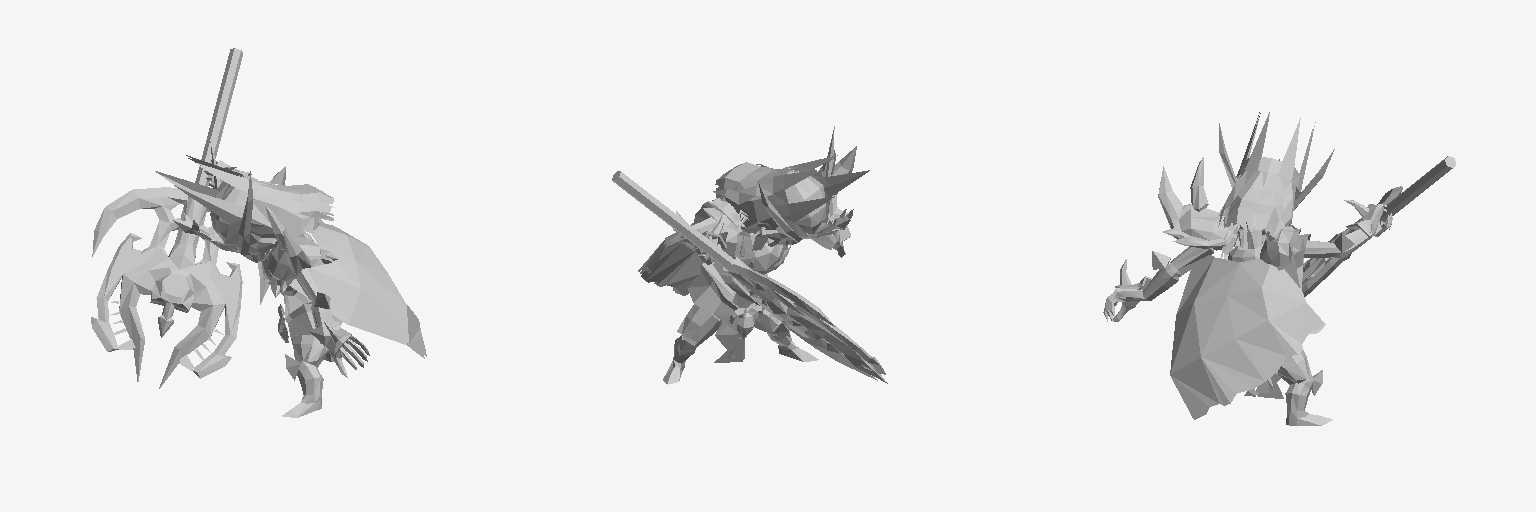
File: Death (12).obj
3 views of the same model, side by side, from view 1: azimuth 30°, elevation 25°; view 2: azimuth 150°, elevation 25°; view 3: azimuth 270°, elevation 25° (orthographic).
Parts seen in each view (by area): view 1: skeleton_king_LOD120, skeleton_weapon_LOD120; view 2: skeleton_king_LOD120, skeleton_weapon_LOD120; view 3: skeleton_king_LOD120, skeleton_weapon_LOD120.
Part boxes in pixels (bbox=[...]): skeleton_king_LOD120: bbox=[155, 141, 426, 417]; skeleton_weapon_LOD120: bbox=[91, 48, 269, 388]; skeleton_king_LOD120: bbox=[638, 126, 869, 384]; skeleton_weapon_LOD120: bbox=[612, 171, 887, 383]; skeleton_king_LOD120: bbox=[1103, 112, 1392, 425]; skeleton_weapon_LOD120: bbox=[1302, 156, 1455, 296].
Bounding box in the file's own units: 4.62 × 4.18 × 5.11.